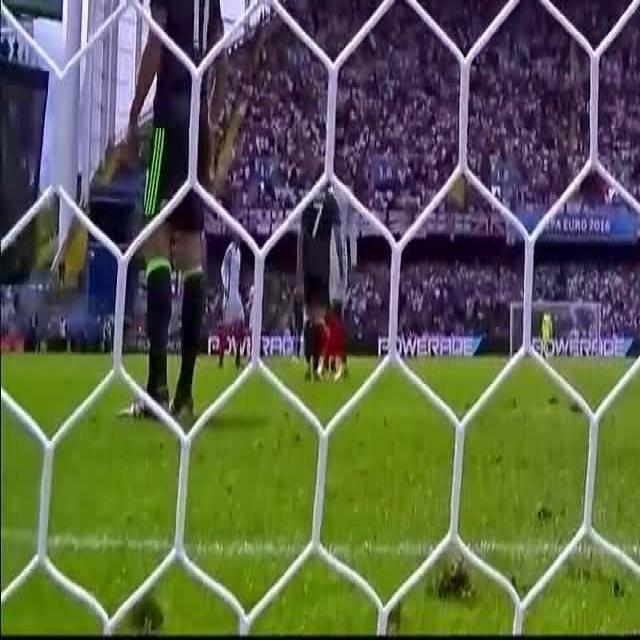player-white: (120, 0, 225, 422), (298, 161, 342, 383), (219, 227, 247, 369), (539, 308, 552, 362)
